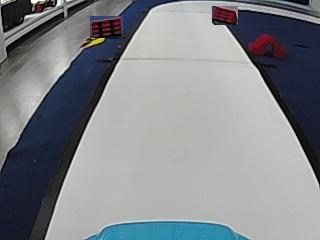bridge: (248, 34, 286, 58)
